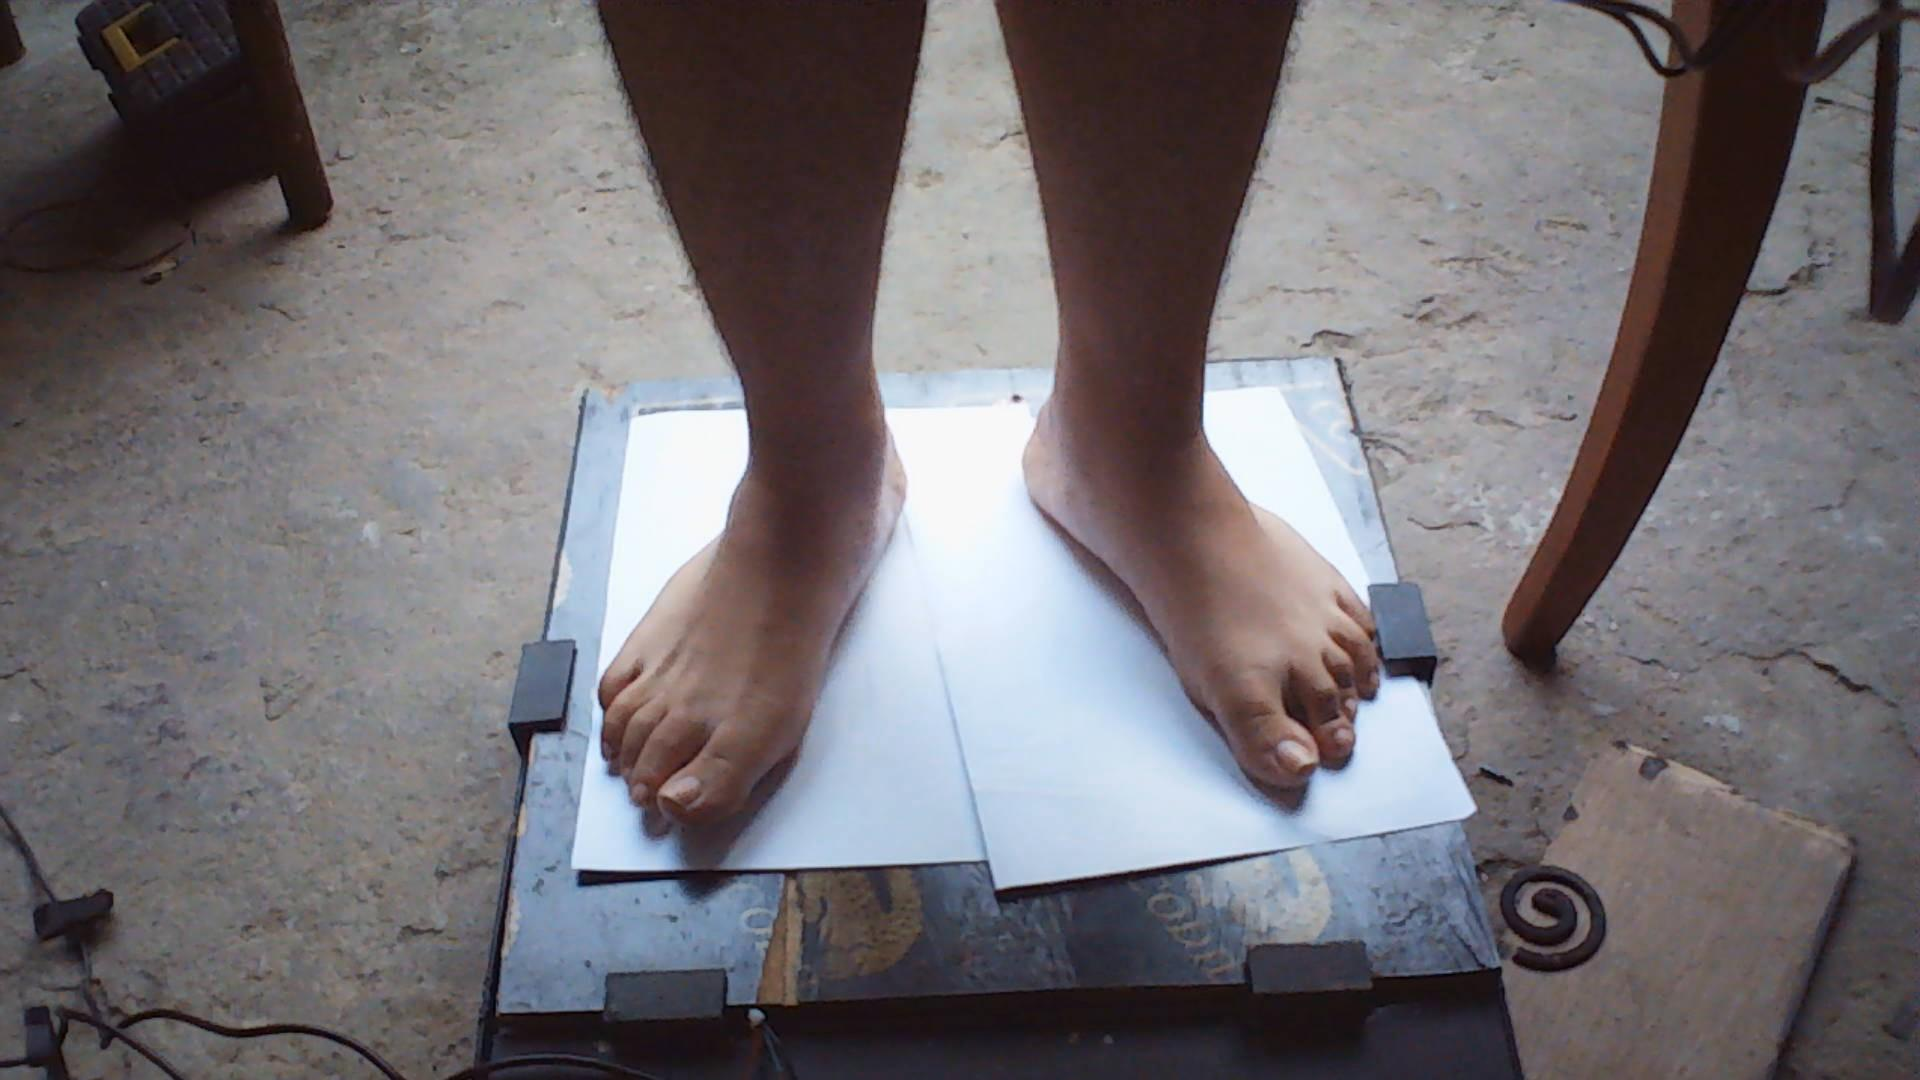Bare_feet: (984, 393, 1379, 819), (603, 422, 927, 870)
